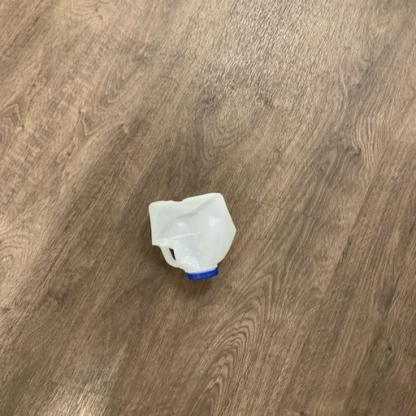trash: (144, 188, 241, 283)
